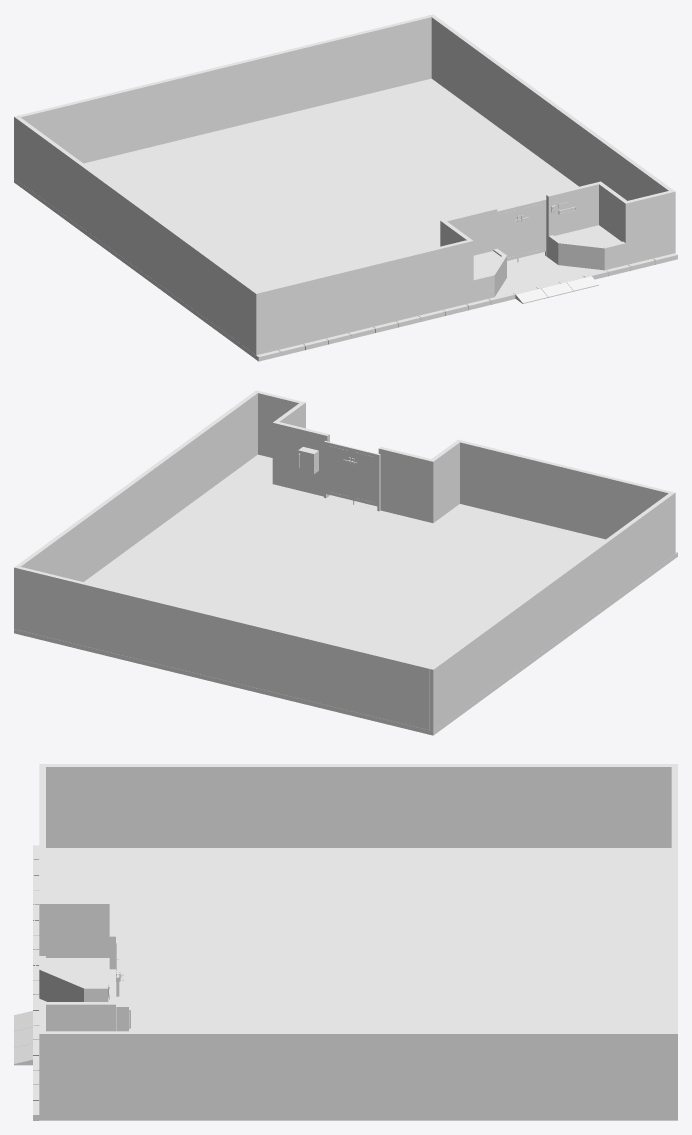
Rendered from Property_I2.fbx.
3 views of the same model, one above another, from view 1: azimuth 30°, elevation 25°; view 2: azimuth 150°, elevation 25°; view 3: azimuth 270°, elevation 25° (orthographic). The views are drawn at different scales.
Parts seen in each view (by area): view 1: Ground.003, Wall.010, Wall.007, Wall.008, Wall.009, Door.052, Door.370, Step.002; view 2: Ground.003, Wall.007, Wall.010, Wall.008, Wall.009, Door.370, Door.052; view 3: Ground.003, Wall.009, Wall.008, Wall.010, Wall.007, Step.002.
Boxes of the visible parts, box(x1,y1,x2,y2) form: Ground.003: box(14, 78, 677, 361); Wall.010: box(253, 181, 675, 355); Wall.007: box(18, 15, 431, 163); Wall.008: box(14, 115, 257, 353); Wall.009: box(429, 14, 672, 200); Door.052: box(520, 199, 545, 257); Door.370: box(497, 205, 521, 260); Step.002: box(515, 276, 598, 303); Ground.003: box(14, 454, 677, 735); Wall.007: box(18, 567, 431, 729); Wall.010: box(254, 390, 675, 555); Wall.008: box(429, 493, 672, 731); Wall.009: box(14, 392, 257, 629); Door.370: box(350, 448, 377, 506); Door.052: box(326, 441, 352, 499); Ground.003: box(33, 845, 677, 1120); Wall.009: box(46, 1031, 677, 1114); Wall.008: box(46, 764, 677, 847); Wall.010: box(39, 764, 128, 1114); Wall.007: box(671, 767, 677, 1031); Step.002: box(14, 1011, 32, 1065).
Bounding box in the file's own units: 1000 × 150 × 1040.
